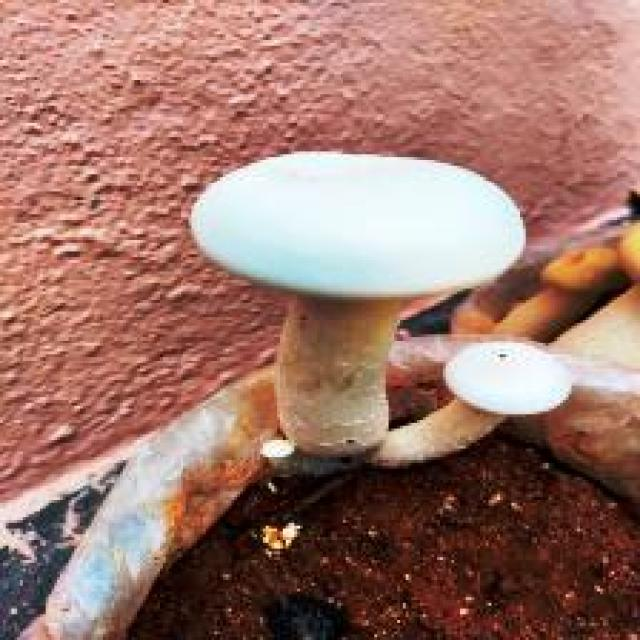field-mushroom: (185, 146, 526, 460)
